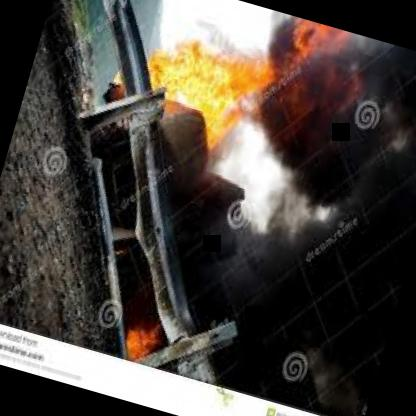fire: (134, 0, 300, 147)
